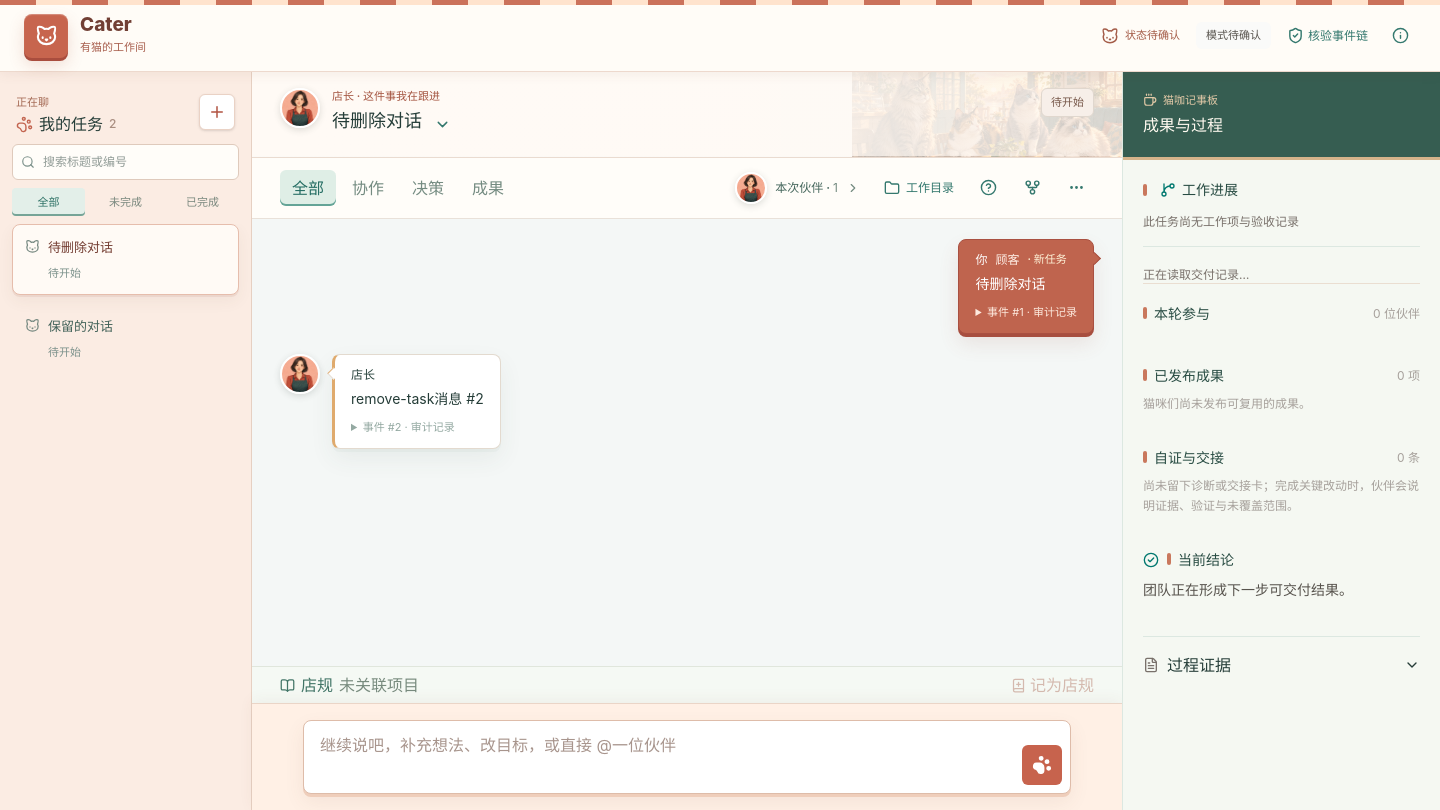
it: 更多任务操作打开 Radix 确认；保留对话不提交且保留输入，并说明文件与记录保留
Step 1. Type "尚未发送的输入" into the text box named "向团队发送消息" → (663, 757), box [312, 729, 1014, 785]
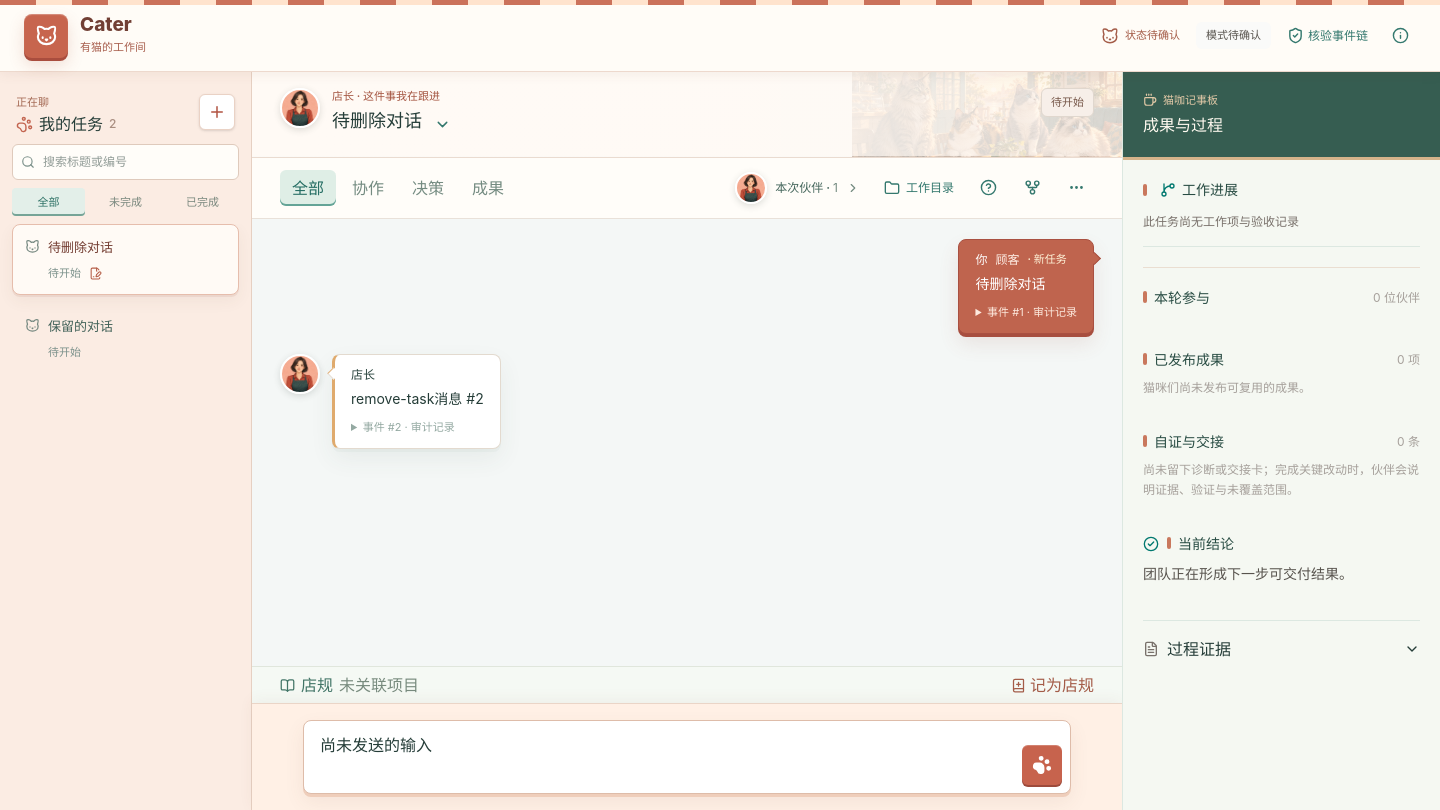
Step 2. Click the button named "更多任务操作" → (1076, 188), box [1058, 170, 1094, 206]
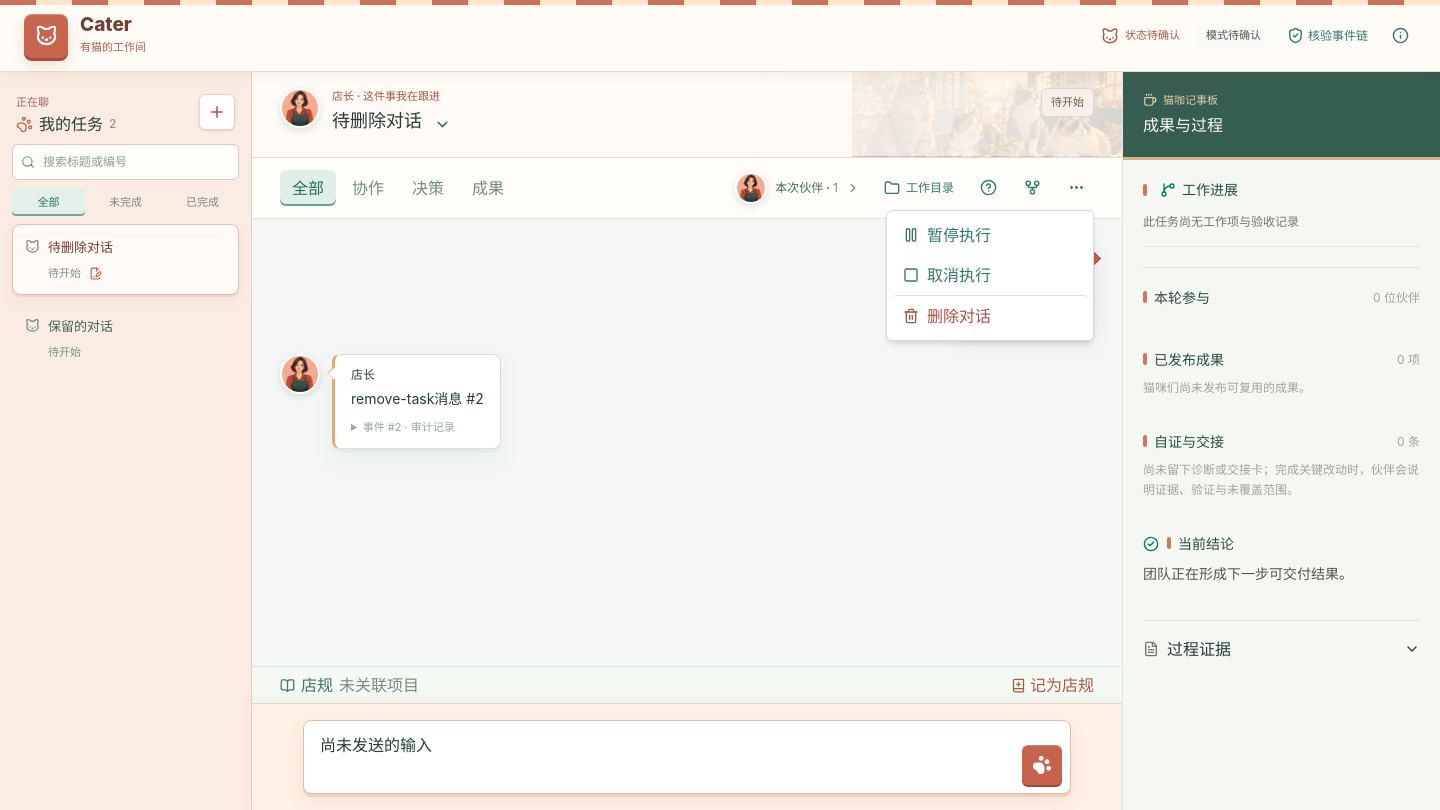
Step 3. Click the button "删除对话" → (990, 315), box [891, 294, 1089, 336]
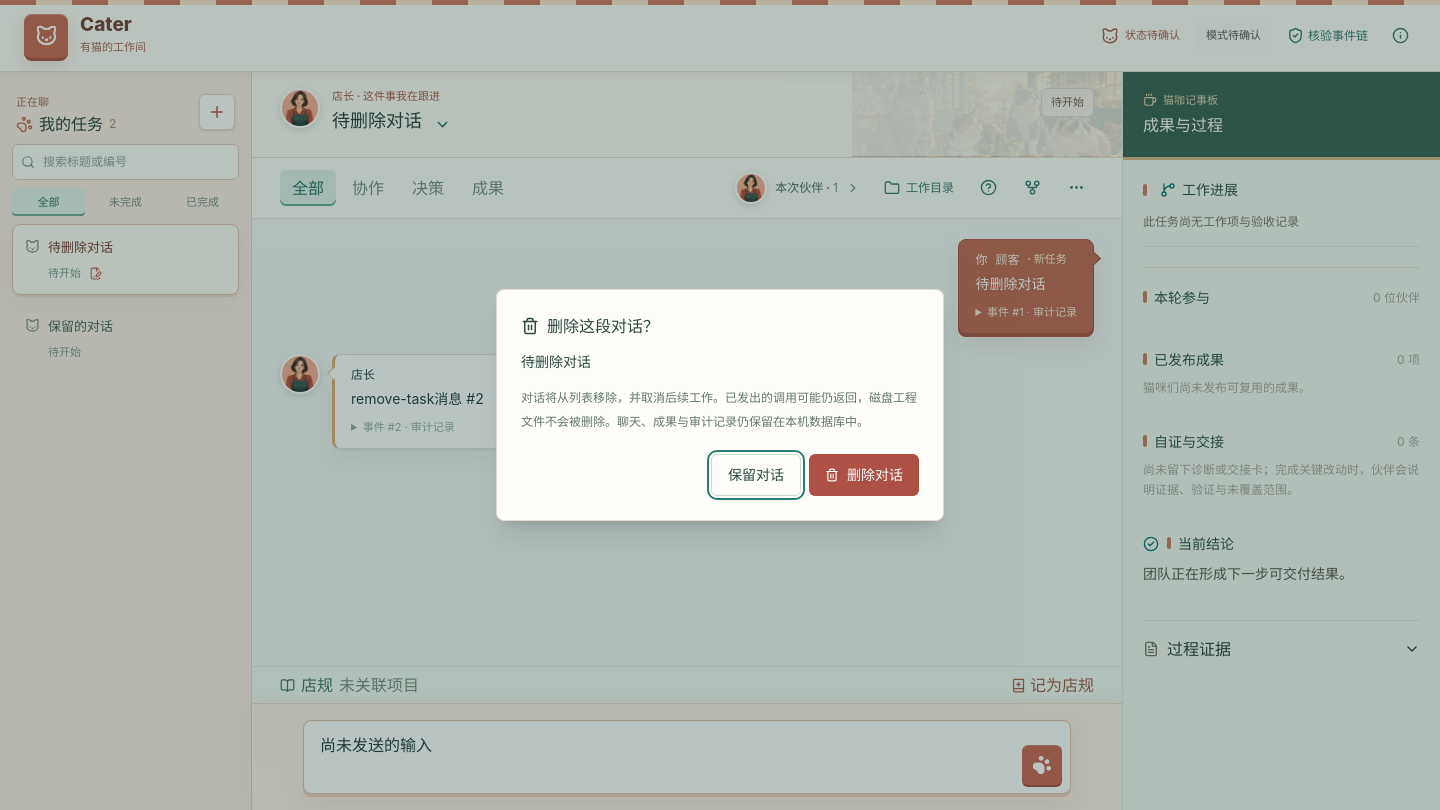
Result: the text "待删除对话" is shown at [521, 353, 591, 370]
Result: the text "磁盘工程文件不会被删除" is shown at [521, 390, 917, 429]
Result: the text "聊天、成果与审计记录仍保留在本机数据库中" is shown at [521, 390, 917, 429]
Step 4. Click the button "保留对话" → (756, 475), box [711, 454, 801, 496]
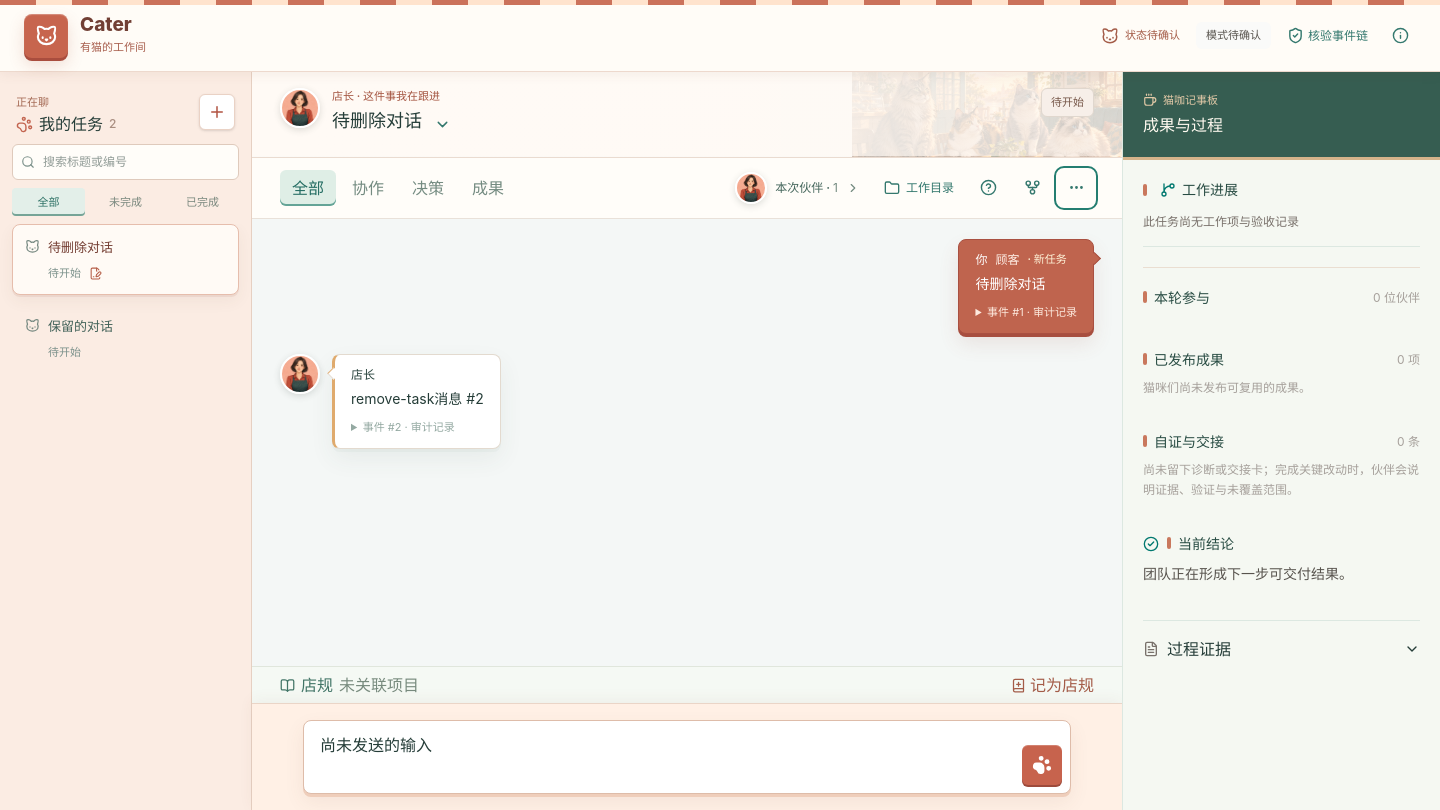
Result: the heading "删除这段对话？" is gone
